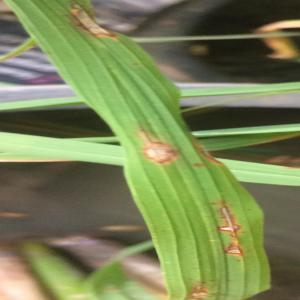Rice_Blast: (131, 114, 196, 169), (206, 198, 253, 268), (70, 2, 131, 46), (197, 135, 230, 170), (180, 274, 210, 300)
